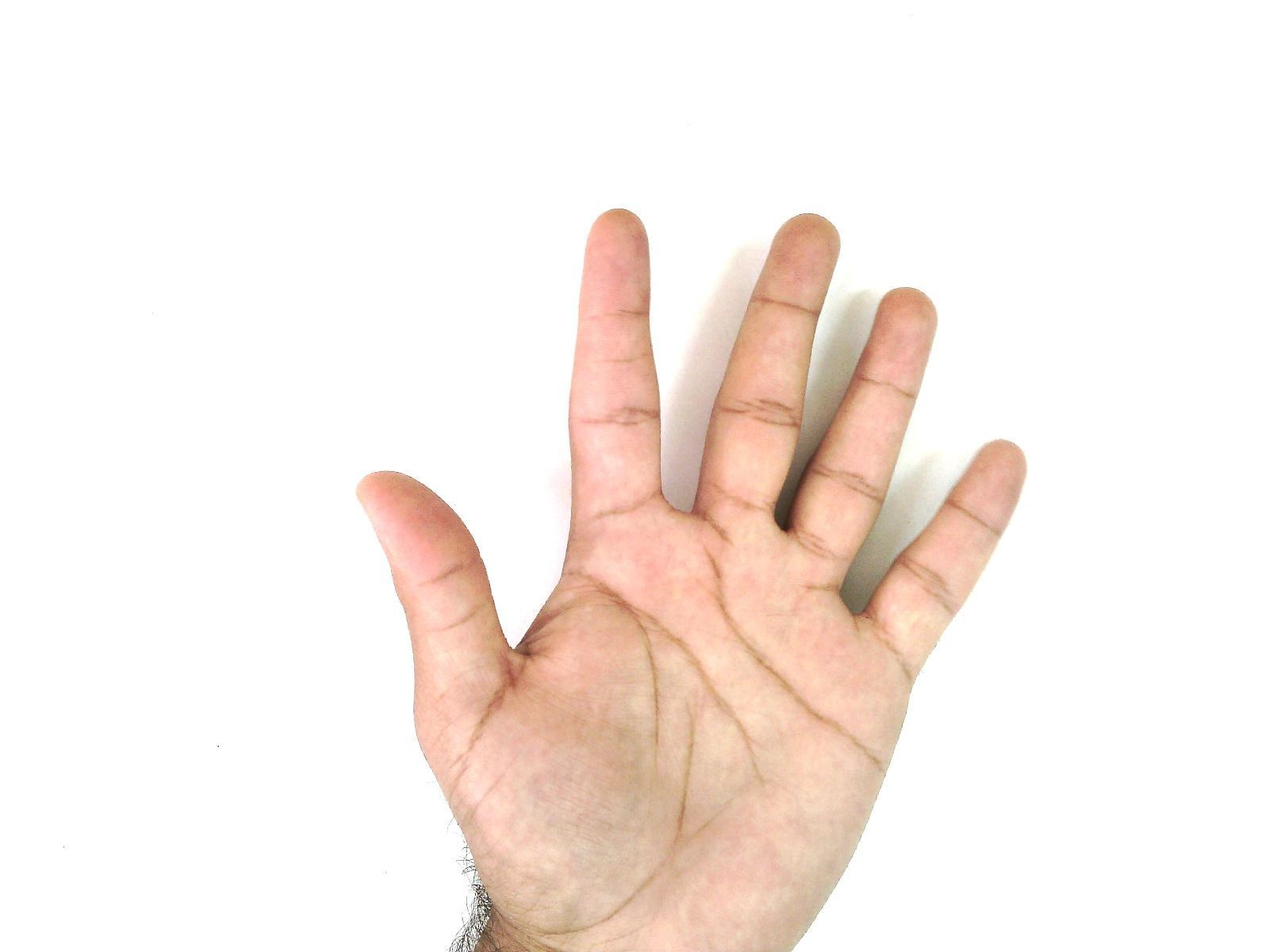open_palm: (354, 206, 1030, 951)
